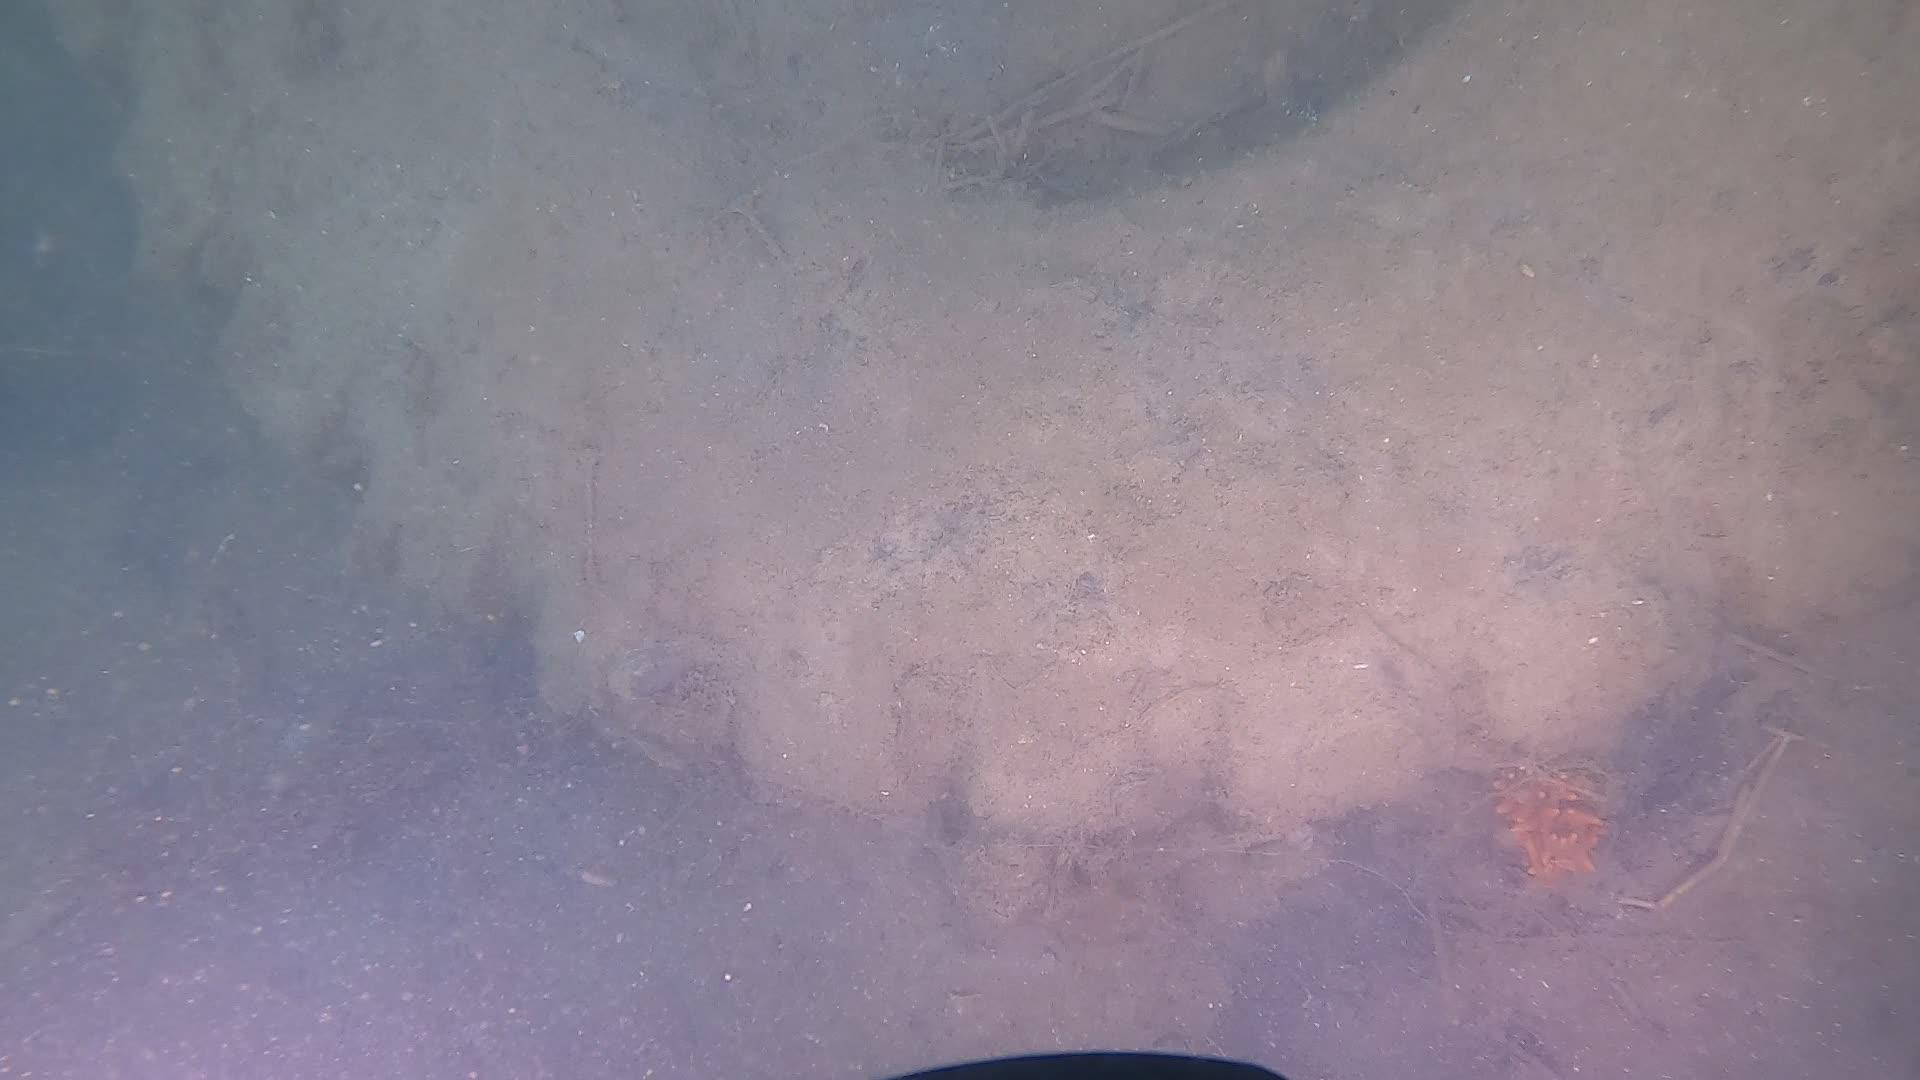tire: (11, 0, 1902, 885)
